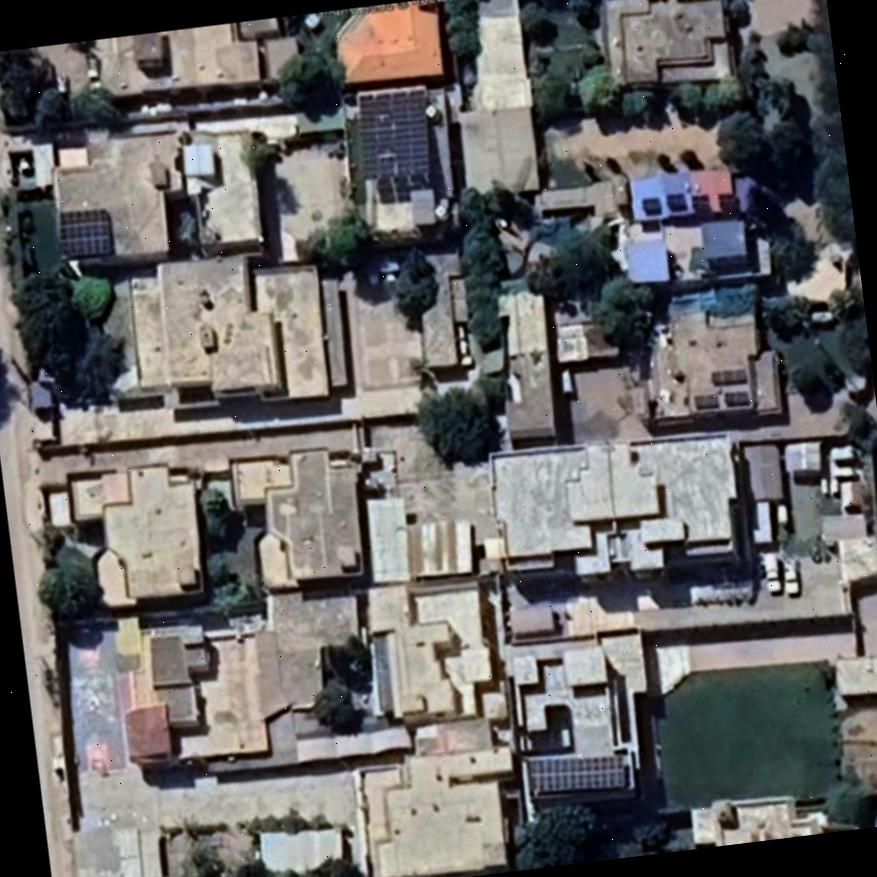Solarpanel: (360, 88, 433, 180), (524, 757, 627, 790), (57, 211, 112, 254)
